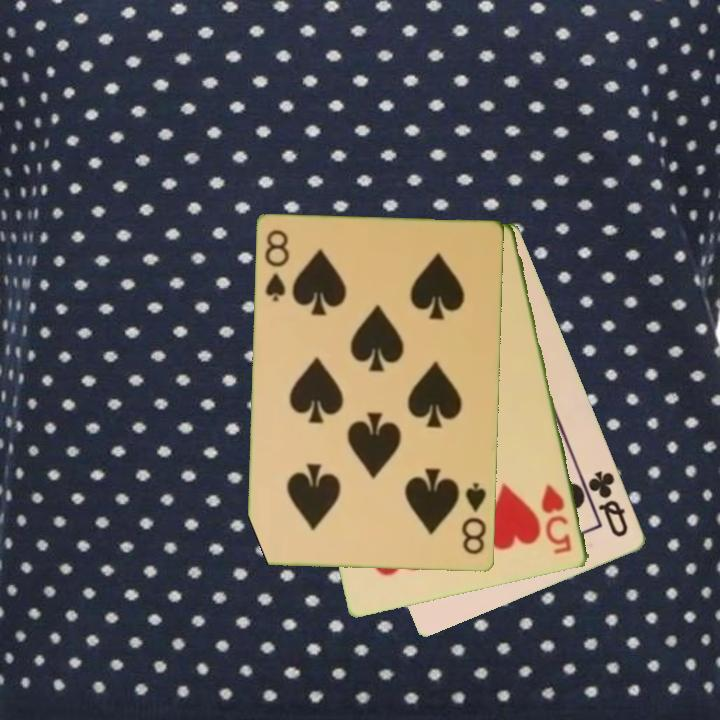5h: (538, 481, 575, 558)
8s: (262, 226, 293, 305), (459, 479, 490, 557)
Qc: (585, 466, 632, 541)
